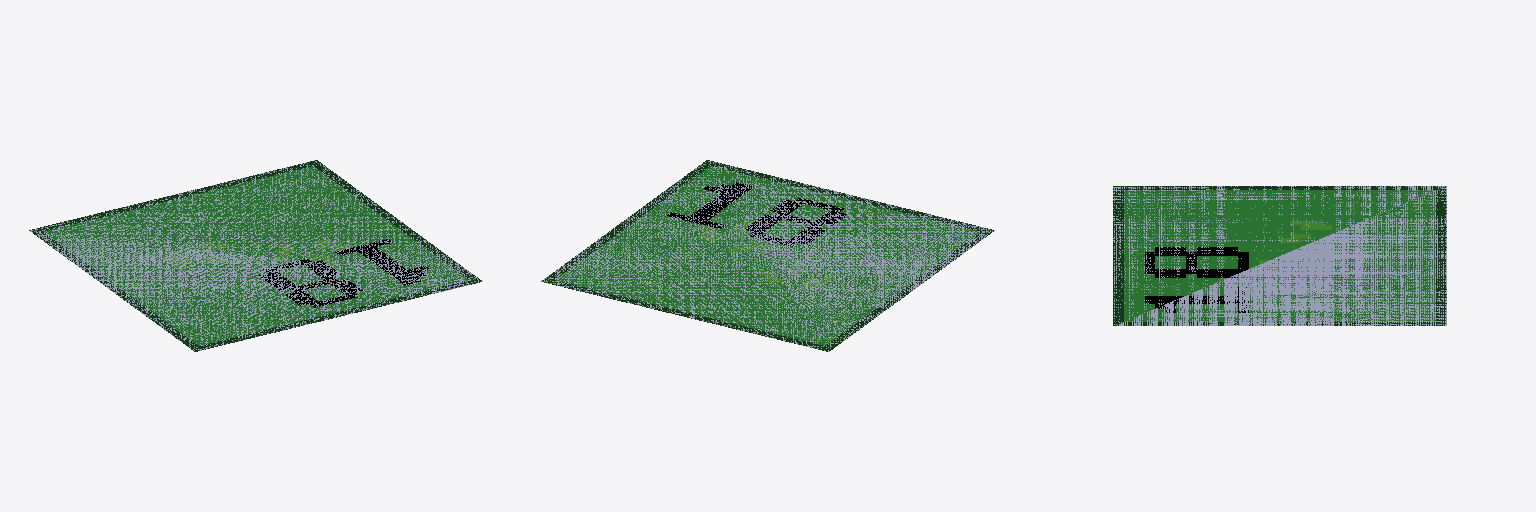
The picture shows the model from 3 angles: view 1: azimuth 30°, elevation 25°; view 2: azimuth 150°, elevation 25°; view 3: azimuth 270°, elevation 25°; orthographic projection.
Parts seen in each view (by area): view 1: Mesh1 Model; view 2: Mesh1 Model; view 3: Mesh1 Model.
Part boxes in pixels (x1,y1,x2,y2): Mesh1 Model: (29, 160, 482, 351); Mesh1 Model: (541, 160, 994, 351); Mesh1 Model: (1113, 186, 1446, 325).
Size of the model in its own units: 32 by 0 by 32.
Materials: 2 (1 with a texture image).